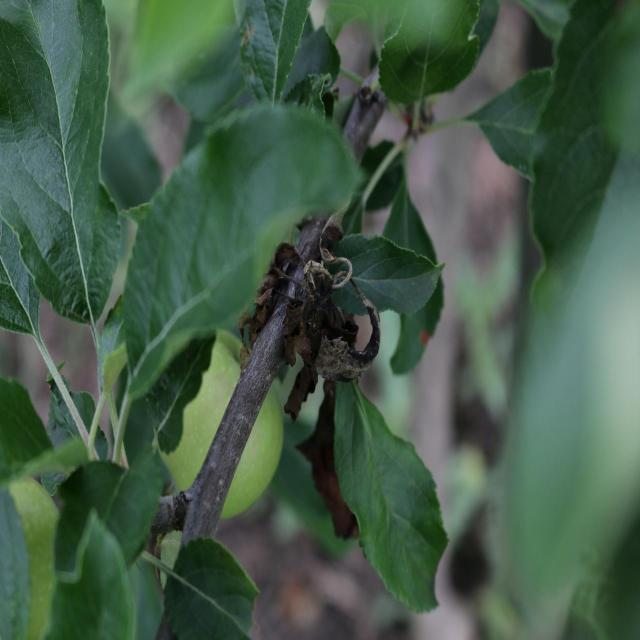-FireBlight-: (238, 229, 382, 405)
